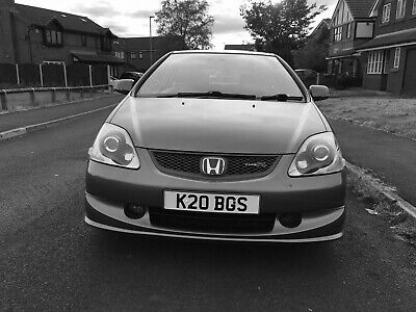license plate: (158, 184, 263, 220)
